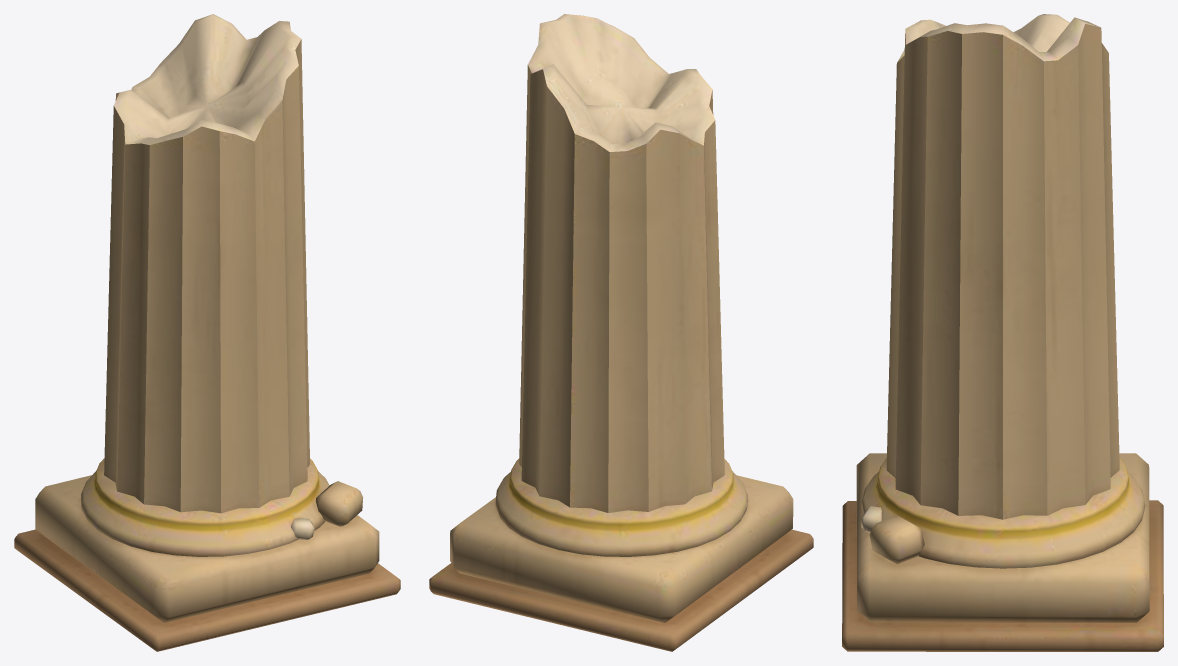
File: cracked-pillar.glb
3 views of the same model, side by side, from view 1: azimuth 30°, elevation 25°; view 2: azimuth 150°, elevation 25°; view 3: azimuth 270°, elevation 25° (orthographic). The views are drawn at different scales.
Visible parts, largest first — view 1: cracked-pillar; view 2: cracked-pillar; view 3: cracked-pillar.
Boxes of the visible parts, box(x1,y1,x2,y2) form: cracked-pillar: box(14, 14, 400, 651); cracked-pillar: box(429, 14, 813, 651); cracked-pillar: box(842, 14, 1163, 651).
Size of the model in its own units: 0.8814 by 1.81 by 0.8814.
4 materials, 4 textured.
